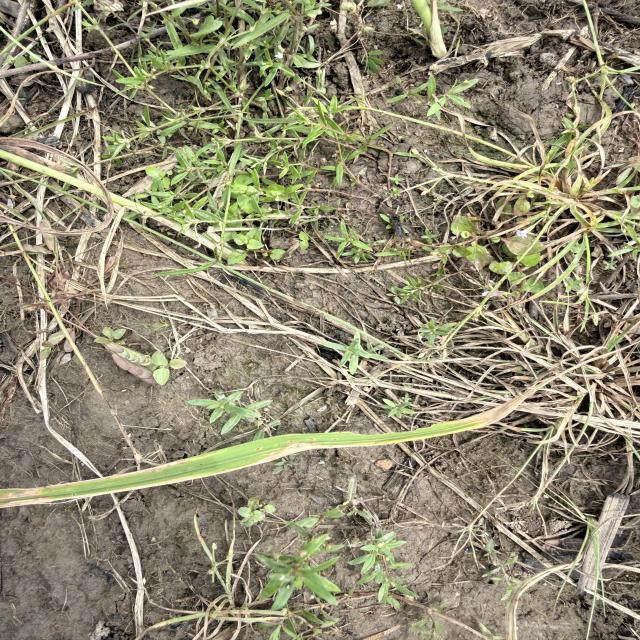Chay bia la: (0, 440, 405, 508), (451, 342, 640, 423), (0, 457, 190, 500)
